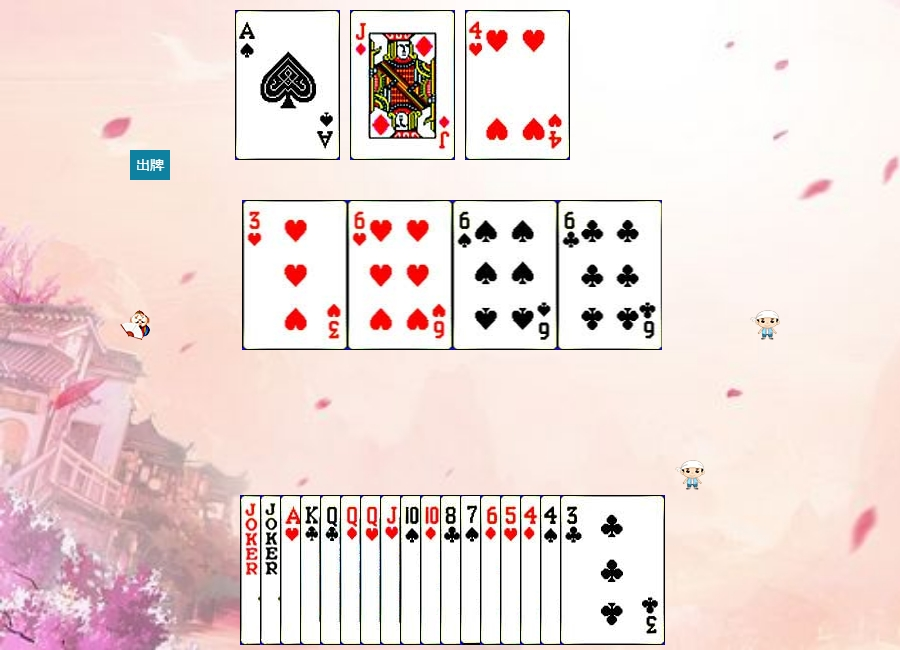10~1: (420, 495, 525, 645)
10~4: (400, 495, 505, 645)
11~1: (350, 10, 455, 160)
11~3: (380, 495, 485, 645)
12~1: (340, 495, 445, 645)
12~2: (320, 495, 425, 645)
12~3: (360, 495, 465, 645)
13~2: (300, 495, 405, 645)
14~3: (280, 495, 385, 645)
14~4: (235, 10, 340, 160)
17~3: (260, 495, 365, 645)
18~4: (240, 495, 345, 645)
3~2: (560, 495, 665, 645)
3~3: (243, 200, 348, 350)
4~1: (520, 495, 625, 645)
4~3: (465, 10, 570, 160)
4~4: (540, 495, 645, 645)
5~3: (500, 495, 605, 645)
6~1: (480, 495, 585, 645)
6~2: (558, 200, 663, 350)
6~3: (348, 200, 453, 350)
6~4: (453, 200, 558, 350)
7~4: (460, 495, 565, 645)
8~2: (440, 495, 545, 645)
